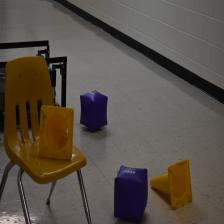cone: (150, 158, 193, 210), (39, 105, 74, 160)
cube: (114, 164, 148, 224), (80, 89, 108, 132)
